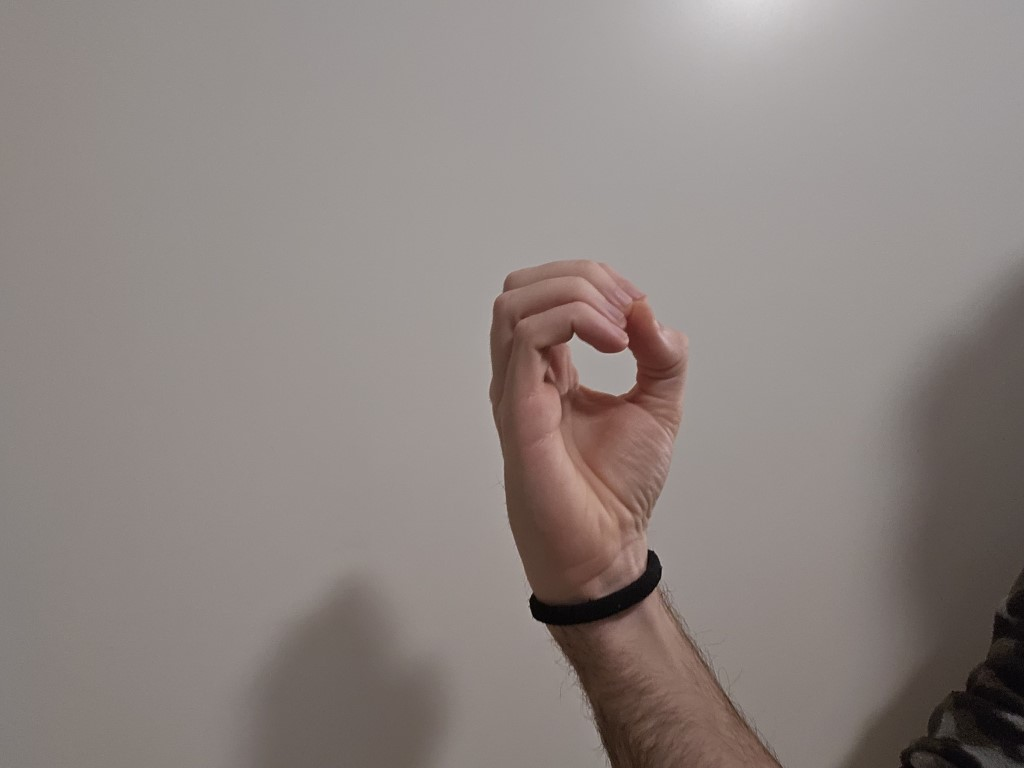o: (422, 246, 718, 579)
